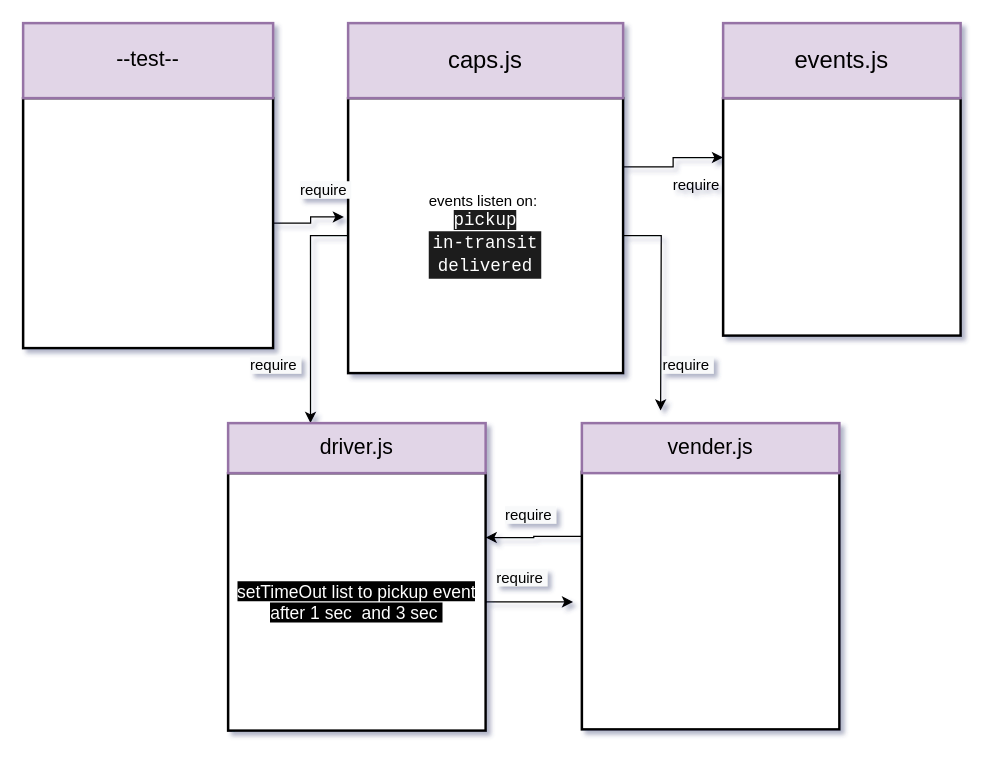
This 990x760 diagram has some shape labels left out. Each missing label, with the centre of its shape:
"require ('event') singleton create one instance of events" belongs at point (841, 216).
"setInterval to emit pickup event setTimeOut to listen on event in-transit" belongs at point (710, 600).
"test the functions: pickupHandler transitHandler deliveredHandler" belongs at point (147, 222).
